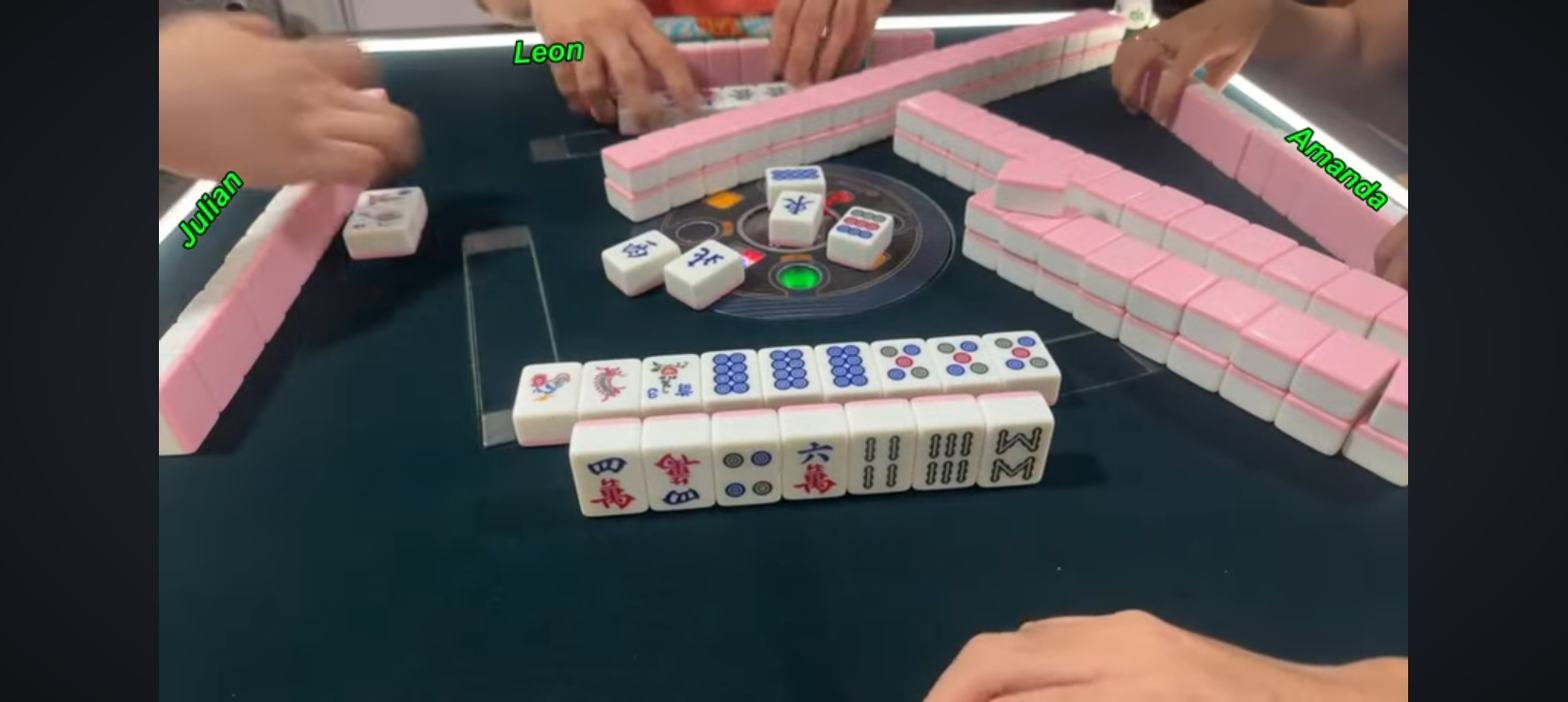TILE: (576, 449, 646, 516), (983, 421, 1052, 485), (648, 446, 714, 512), (716, 443, 782, 507), (850, 431, 917, 494), (917, 427, 985, 488), (783, 438, 848, 498), (515, 361, 578, 413), (641, 354, 703, 406), (991, 332, 1063, 376), (579, 358, 639, 410), (874, 338, 933, 389), (703, 349, 757, 403), (934, 334, 991, 385), (818, 341, 873, 393), (760, 346, 817, 395)
